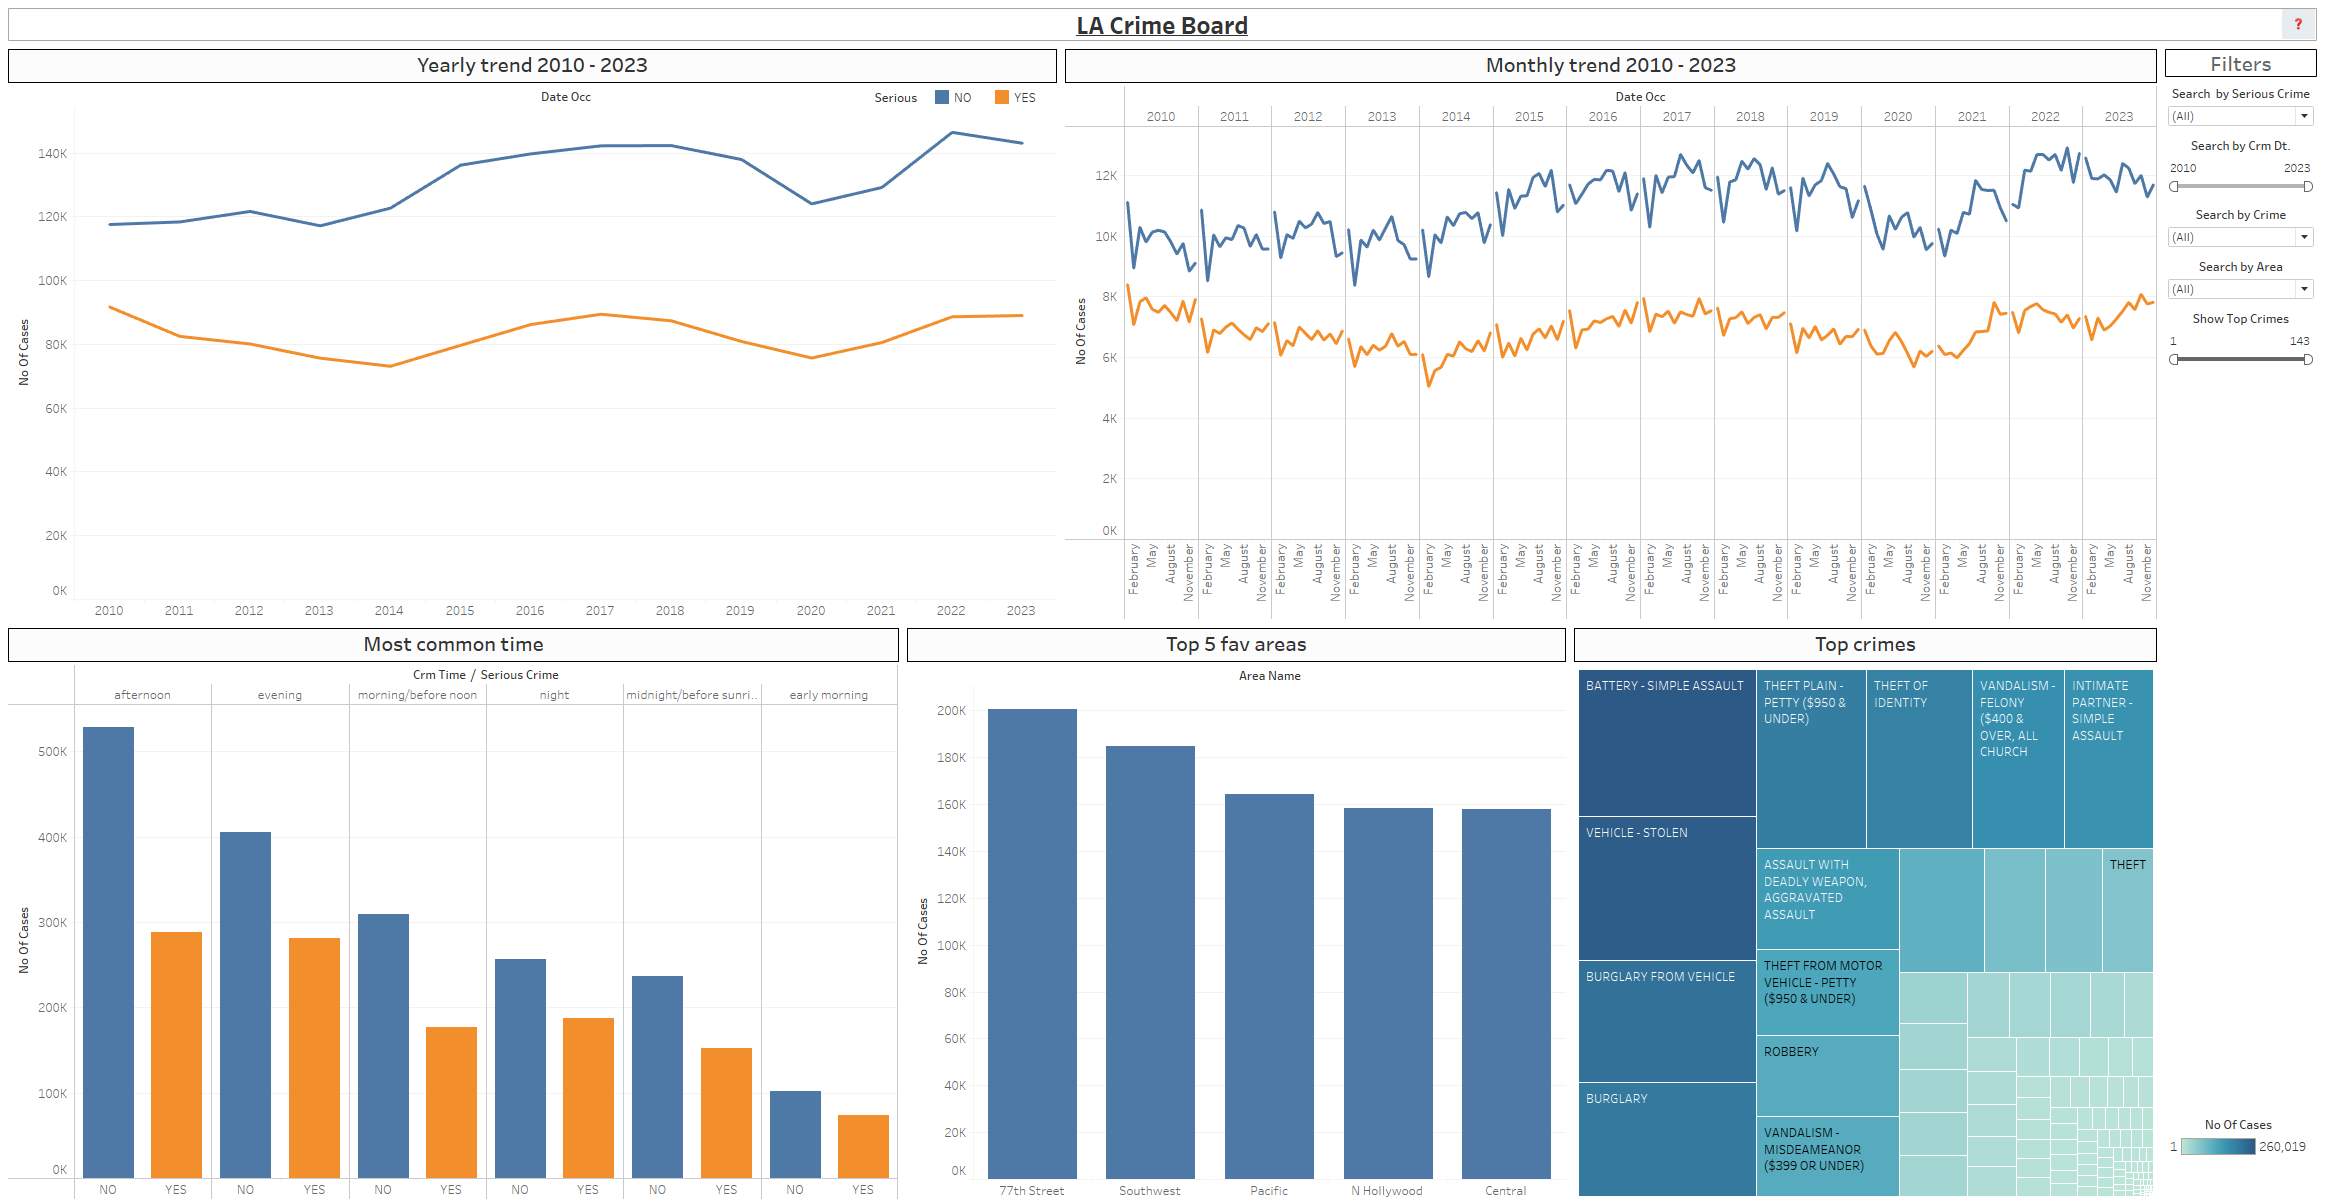

This screenshot's page, from the dashboard's own definition file:
{"tool":"tableau","page":{"name":"Dashboard 1","canvas":[1000,1000],"units":"permille","ordinal":0},"visuals":[{"type":"worksheet","title":"Crime Yearly Trend 2010-2023","mark":"Automatic","rows":["no_of_cases"],"cols":["date_occ"],"box":[3.4,6.6,408.7,493.4]},{"type":"worksheet","title":"Top 5 areas","mark":"Automatic","rows":["no_of_cases"],"cols":["area_name"],"box":[412.1,6.6,285.1,493.4]},{"type":"worksheet","title":"most common time for crime","mark":"Automatic","rows":["no_of_cases"],"cols":["crm_time","serious_crime"],"box":[697.2,6.6,231.3,986.8]},{"type":"filter","title":"Crime Yearly Trend 2010-2023","param":"[federated.15abm720oufgty15h3cd505g98xg].[none:serious_crime:nk]","box":[928.5,6.6,68.1,42.8]},{"type":"filter","title":"Top 5 areas","param":"[federated.15abm720oufgty15h3cd505g98xg].[tyr:date_occ:qk]","box":[928.5,49.3,68.1,56.7]},{"type":"legend","title":"most common time for crime","param":"[federated.15abm720oufgty15h3cd505g98xg].[none:serious_crime:nk]","box":[928.5,106.1,68.1,54.3]},{"type":"filter","title":"Most common crime","param":"[federated.15abm720oufgty15h3cd505g98xg].[none:crm_code_description:nk]","box":[928.5,160.4,68.1,91.3]},{"type":"worksheet","title":"Crime Monthly Trend 2010-2023","mark":"Automatic","rows":["no_of_cases"],"cols":["date_occ","date_occ"],"box":[3.4,500,408.7,493.4]},{"type":"worksheet","title":"Most common crime","mark":"Automatic","box":[412.1,500,285.1,493.4]}]}

Visuals, with their boxes on the dashboard's canvas, which has no fixed pixel size, in thousandths of its width and height (x1, y1, x2, y2). These are canvas units, not pixel positions in the 2327x1204 screenshot, which may show the page scaled, cropped or inside an application window:
"Crime Yearly Trend 2010-2023" worksheet: <bbox>3, 7, 412, 500</bbox>
"Top 5 areas" worksheet: <bbox>412, 7, 697, 500</bbox>
"most common time for crime" worksheet: <bbox>697, 7, 928, 993</bbox>
"Crime Yearly Trend 2010-2023" filter: <bbox>928, 7, 997, 49</bbox>
"Top 5 areas" filter: <bbox>928, 49, 997, 106</bbox>
"most common time for crime" legend: <bbox>928, 106, 997, 160</bbox>
"Most common crime" filter: <bbox>928, 160, 997, 252</bbox>
"Crime Monthly Trend 2010-2023" worksheet: <bbox>3, 500, 412, 993</bbox>
"Most common crime" worksheet: <bbox>412, 500, 697, 993</bbox>
